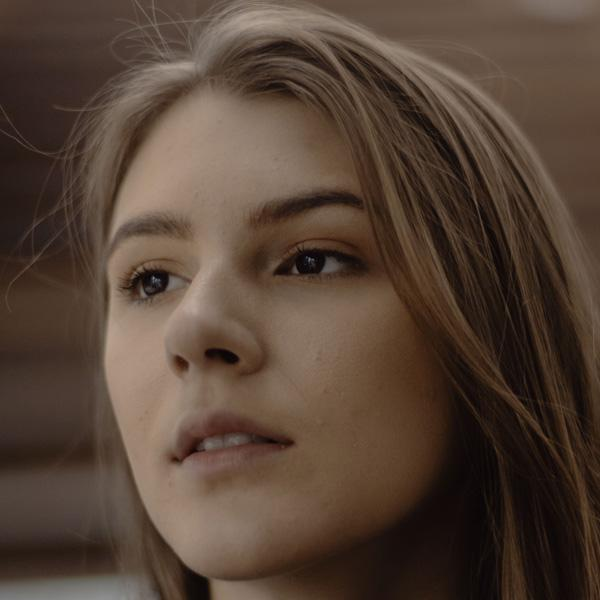Eyes: (265, 228, 371, 291), (113, 252, 198, 311)
